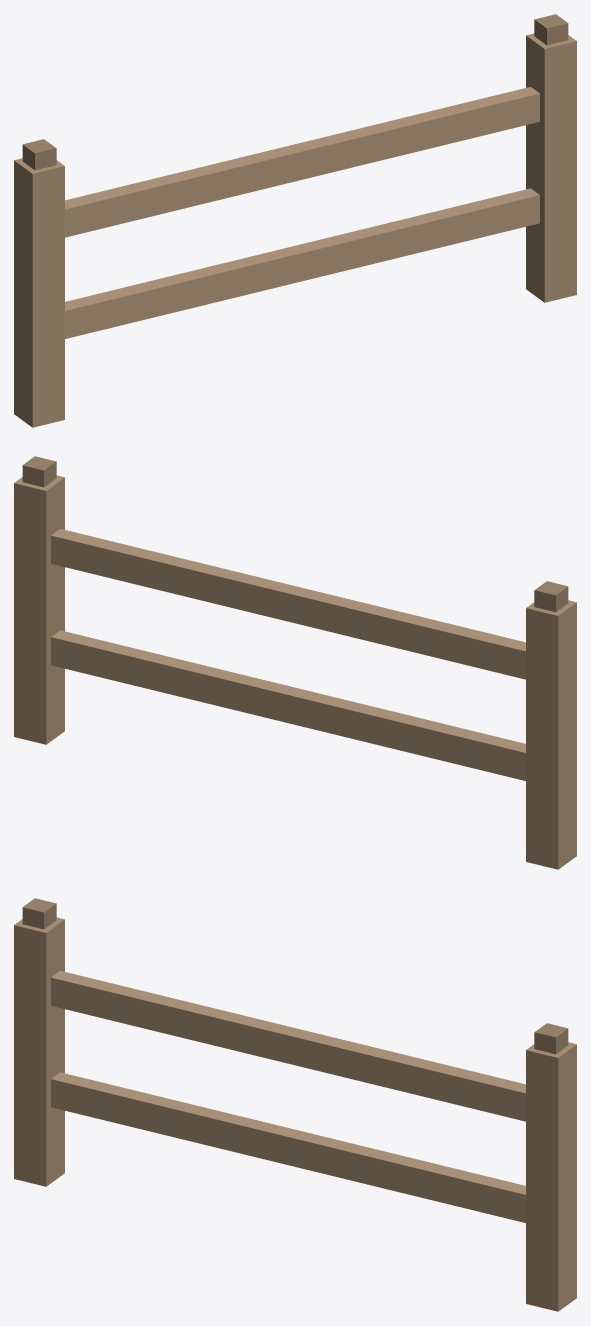
The model's file is fence.glb.
3 views of the same model, one above another, from view 1: azimuth 30°, elevation 25°; view 2: azimuth 150°, elevation 25°; view 3: azimuth 330°, elevation 25° (orthographic).
Visible parts, largest first — view 1: fence; view 2: fence; view 3: fence.
Part boxes in pixels (x1,y1,x2,y2): fence: [14, 14, 576, 427]; fence: [14, 456, 576, 869]; fence: [14, 898, 576, 1311].
Bounding box in the file's own units: 2.02 × 0.96 × 0.12.
